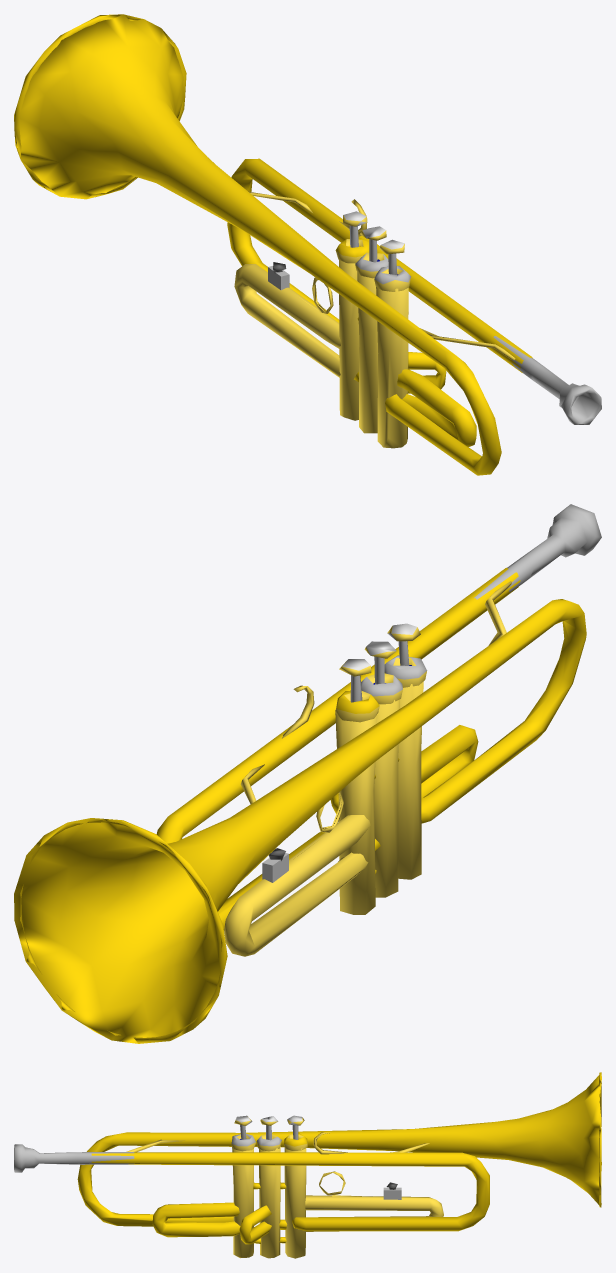
File: Tromba.fbx
3 views of the same model, one above another, from view 1: azimuth 30°, elevation 25°; view 2: azimuth 150°, elevation 25°; view 3: azimuth 270°, elevation 25° (orthographic). The views are drawn at different scales.
Visible parts, largest first — view 1: Trumpet; view 2: Trumpet; view 3: Trumpet.
Boxes of the visible parts, x1=… form: Trumpet: x1=14, y1=14, x2=601, y2=475; Trumpet: x1=14, y1=504, x2=601, y2=1043; Trumpet: x1=14, y1=1072, x2=601, y2=1258.
Size of the model in its own units: 263 by 352 by 1128.
